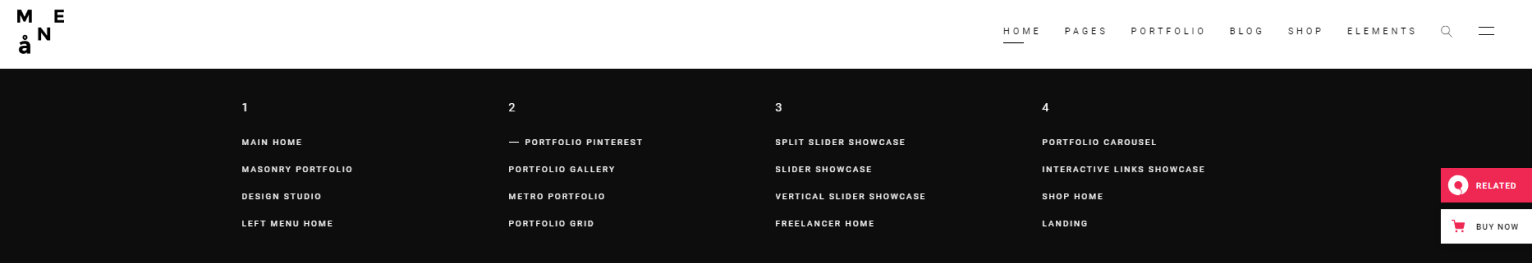menu: (5, 8, 1523, 91)
